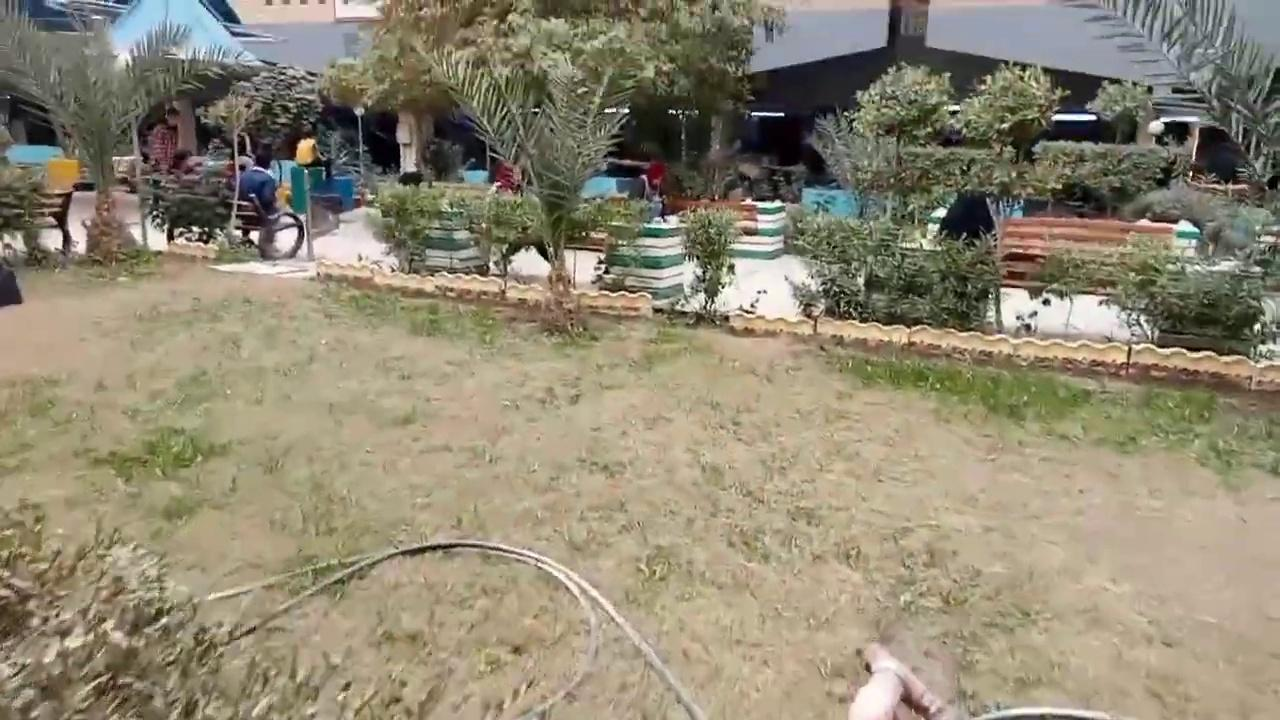fountain: (43, 155, 80, 191)
person: (236, 141, 285, 259), (147, 107, 180, 174), (293, 122, 325, 168)
tree: (319, 0, 787, 329), (784, 57, 1173, 332), (0, 9, 264, 264), (1063, 0, 1279, 194), (636, 0, 783, 201), (1084, 77, 1154, 144)
